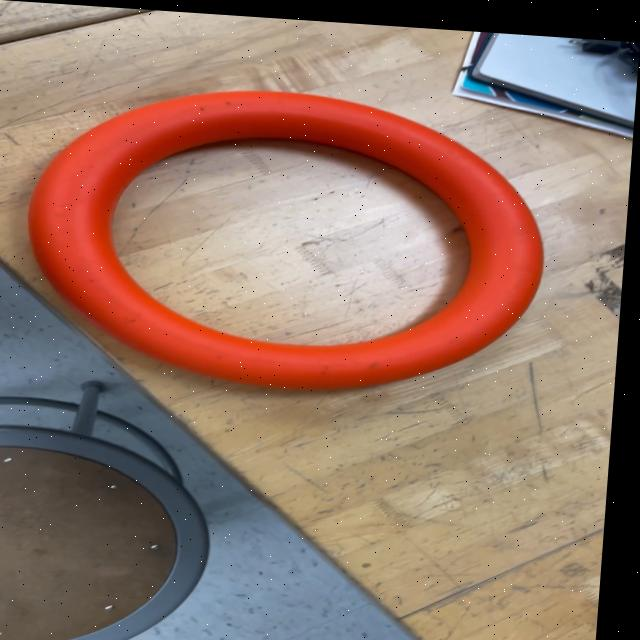note: (15, 74, 564, 403)
